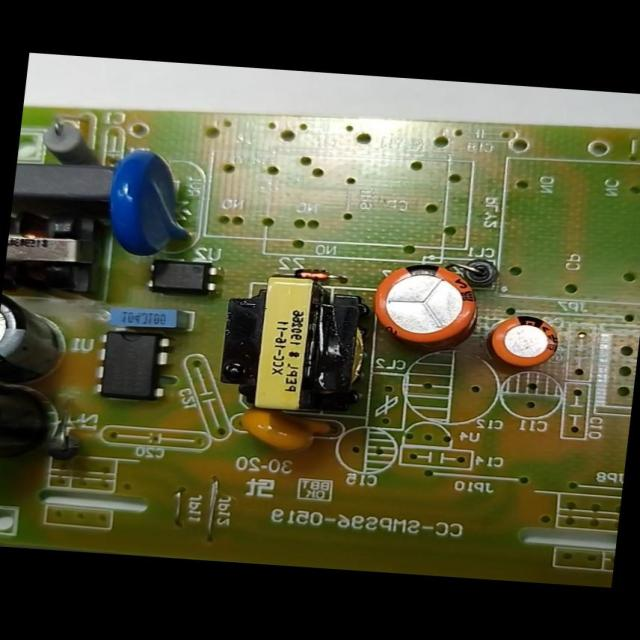Cap1: (364, 253, 487, 352)
Cap2: (480, 308, 564, 371)
Cap3: (0, 287, 80, 380)
Cap4: (0, 377, 66, 466)
MOSFET: (84, 325, 178, 405)
Mov: (99, 146, 203, 258)
Resistor: (34, 113, 112, 168)
Transformer: (212, 269, 378, 418), (2, 205, 112, 303)
